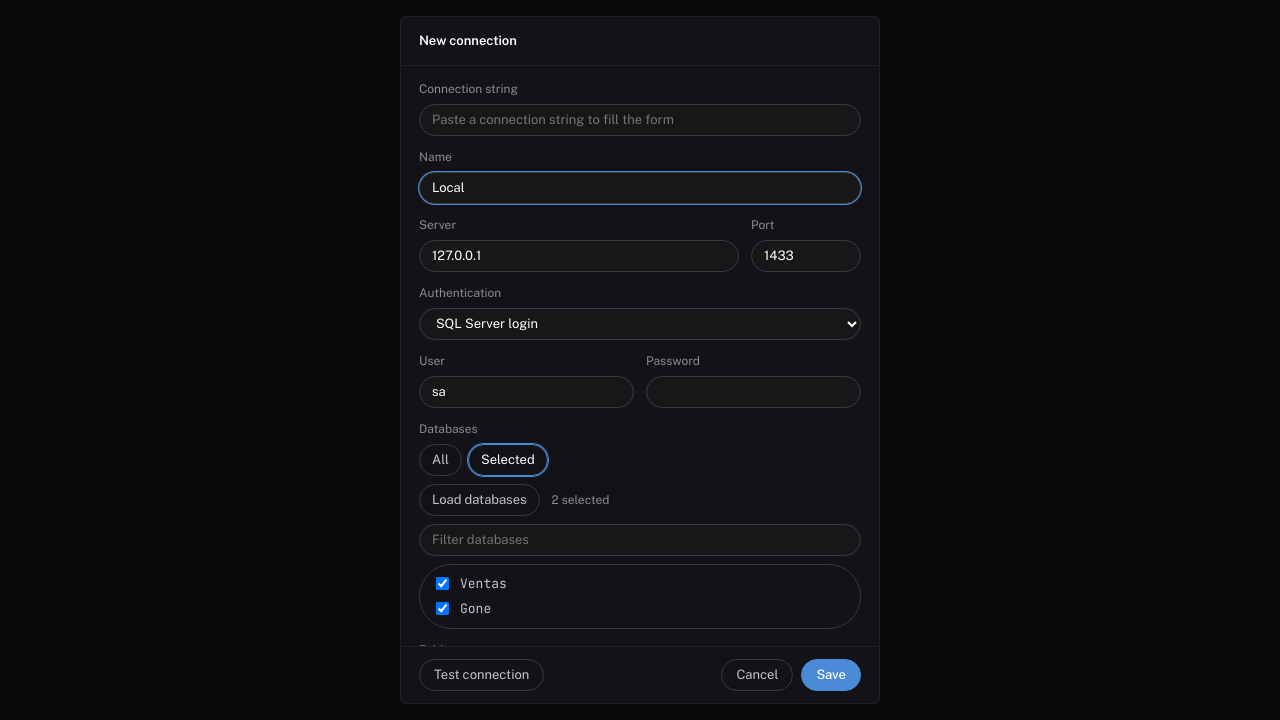
Scenario: editing the server resets a loaded list but keeps the chosen names
The width and height of the screenshot is (1280, 720).
Click the button "Load databases": coordinates (479, 500) [419,484,540,516]
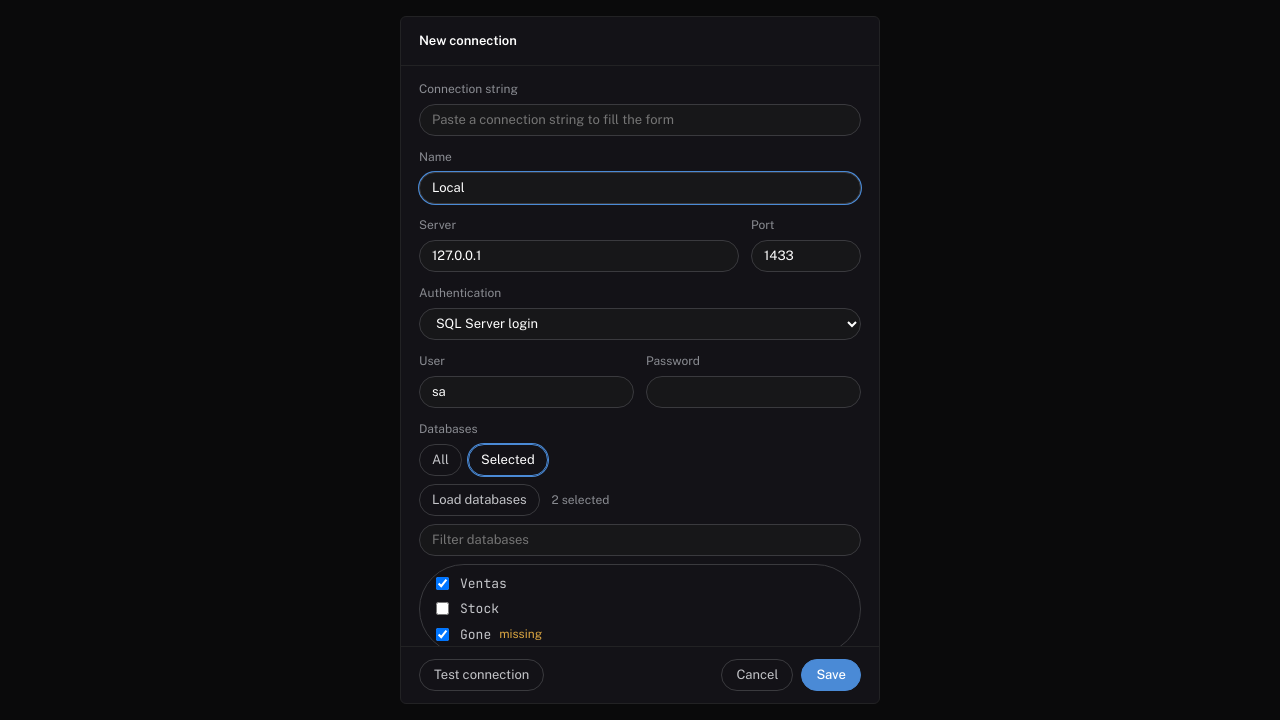
Replace the text in the field with id "c-server" with "other-host": coordinates (579, 256) [419,240,739,272]
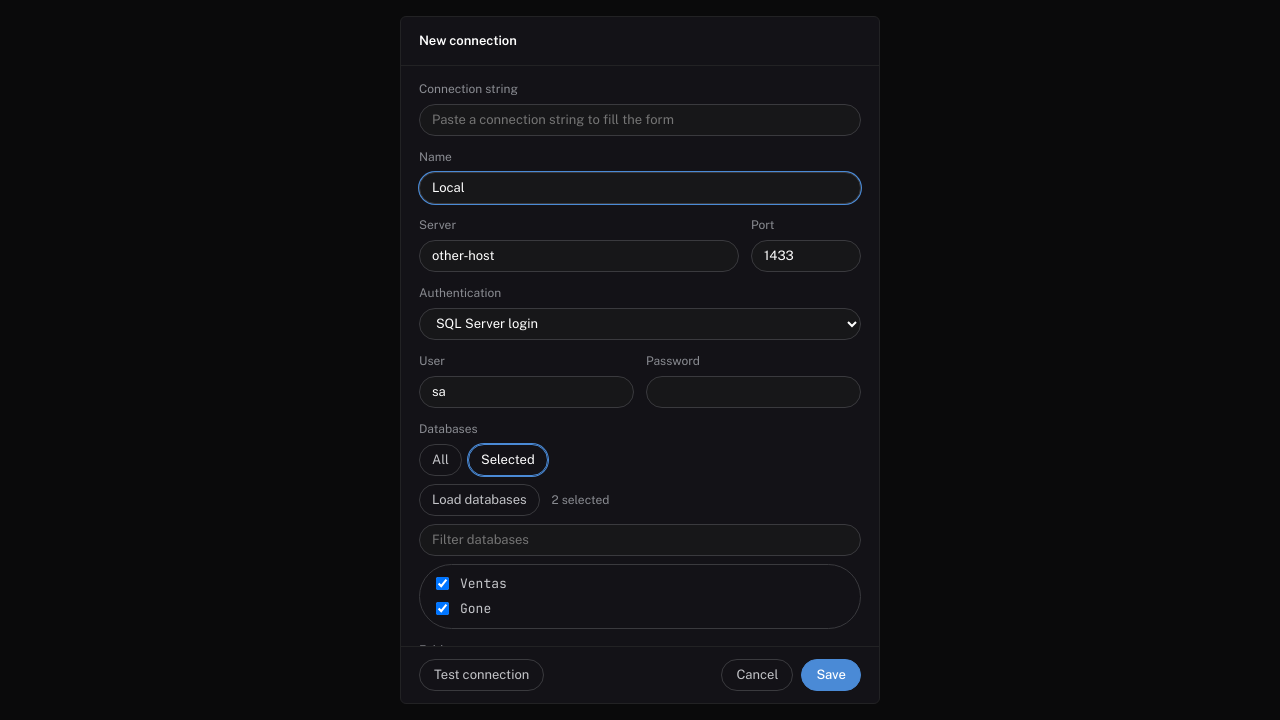
Expected: the text "missing" is gone
